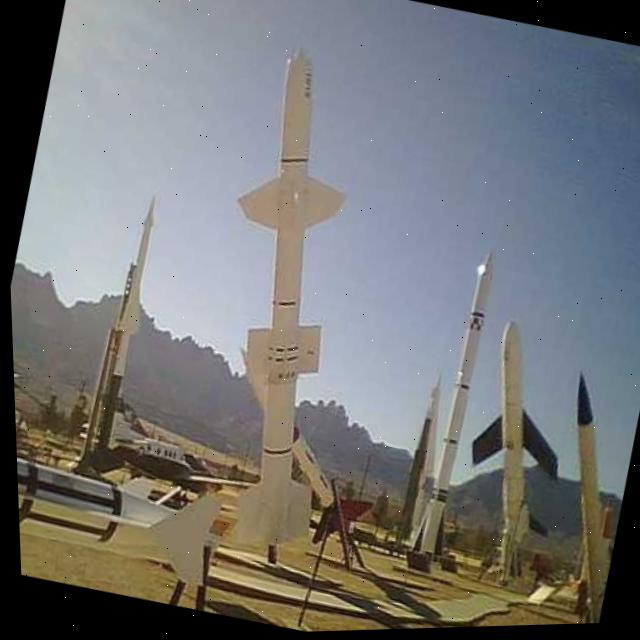missile: (166, 38, 418, 528), (197, 342, 395, 554), (445, 317, 597, 571), (393, 243, 511, 570), (516, 364, 640, 628), (90, 190, 174, 402)
